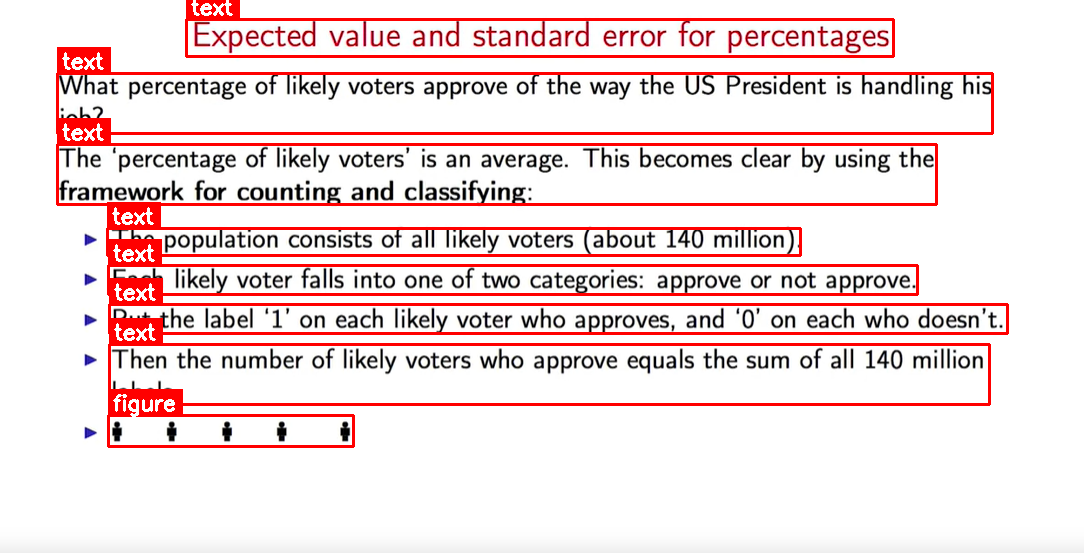figure: (108, 415, 353, 446)
text: (57, 73, 992, 133), (109, 344, 989, 404), (57, 144, 936, 204), (186, 19, 893, 56), (109, 304, 1007, 333), (108, 265, 917, 294), (107, 228, 800, 255)
